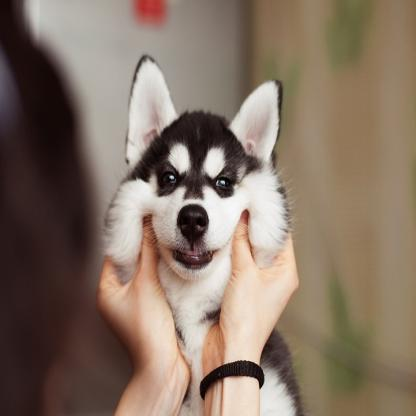husky: (102, 51, 298, 416)
